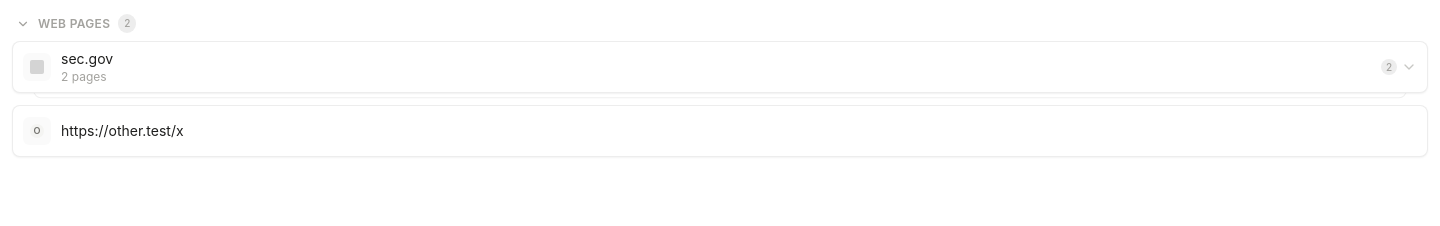
Test case: SourcesPanel › stacks web_fetch pages from the same domain into a domain deck
This screenshot has width=1440, height=226.
Check: the text with test id "group-count-web_fetch" reads "2", box [124,17,130,29]
Check: the text "sec.gov" is shown, box [61,50,113,67]
Click the button with aria-label "sec.gov — Expand": point(87, 58) [12,41,1428,93]
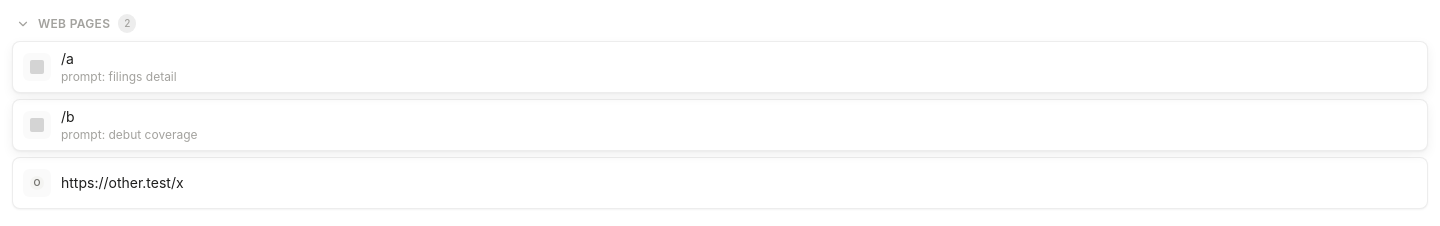
Check: the button with aria-label "/a — View details" is shown, box [12,41,1428,93]
Check: the text "prompt: filings detail" is shown, box [61,69,177,84]
Check: the text "prompt: debut coverage" is shown, box [61,127,198,142]
